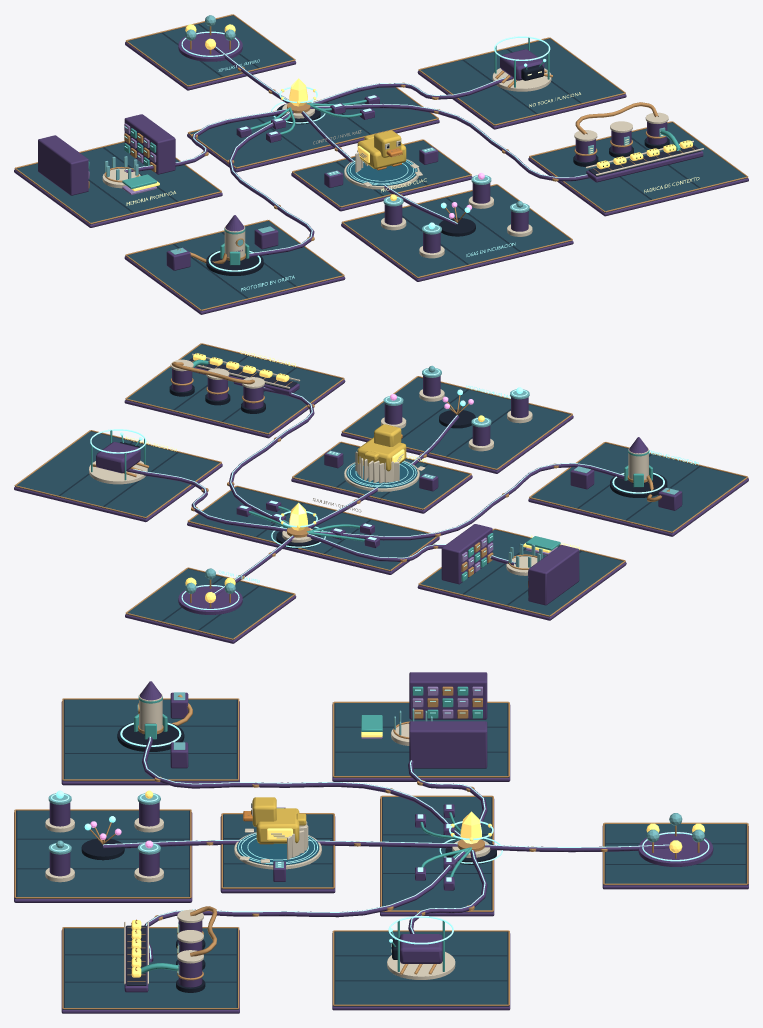
Rendered from underworld.glb.
The picture shows the model from 3 angles, top to bottom: view 1: azimuth 30°, elevation 25°; view 2: azimuth 150°, elevation 25°; view 3: azimuth 270°, elevation 25°; orthographic projection. The views are drawn at different scales.
Parts seen in each view (by area): view 1: Batch_Underworld_tile, Batch_Underworld_violet, Batch_Underworld_copper, Batch_Underworld_cream, Batch_Underworld_signal, Batch_Underworld_floor, Batch_Underworld_charcoal, Batch_Underworld_teal, Batch_Underworld_glass, Batch_BobDuck_duck, Batch_Underworld_water, Batch_Underworld_rubber (+1 smaller); view 2: Batch_Underworld_tile, Batch_Underworld_violet, Batch_Underworld_copper, Batch_Underworld_cream, Batch_Underworld_signal, Batch_Underworld_floor, Batch_Underworld_charcoal, Batch_Underworld_teal, Batch_Underworld_glass, Batch_BobDuck_duck, Batch_Underworld_water, Batch_Underworld_rubber; view 3: Batch_Underworld_tile, Batch_Underworld_violet, Batch_Underworld_copper, Batch_Underworld_floor, Batch_Underworld_cream, Batch_Underworld_signal, Batch_Underworld_teal, Batch_Underworld_charcoal, Batch_Underworld_glass, Batch_BobDuck_duck, Batch_Underworld_water, Batch_Underworld_rubber (+1 smaller).
Boxes of the visible parts, bbox=[...] form: Batch_Underworld_tile: bbox=[17, 15, 746, 309]; Batch_Underworld_violet: bbox=[14, 31, 748, 314]; Batch_Underworld_copper: bbox=[14, 14, 748, 310]; Batch_Underworld_cream: bbox=[102, 68, 703, 258]; Batch_Underworld_signal: bbox=[124, 31, 587, 291]; Batch_Underworld_floor: bbox=[17, 15, 747, 311]; Batch_Underworld_charcoal: bbox=[206, 64, 669, 275]; Batch_Underworld_teal: bbox=[88, 37, 681, 265]; Batch_Underworld_glass: bbox=[104, 15, 665, 254]; Batch_BobDuck_duck: bbox=[357, 130, 406, 168]; Batch_Underworld_water: bbox=[346, 159, 417, 185]; Batch_Underworld_rubber: bbox=[588, 145, 700, 176]; Batch_Underworld_tile: bbox=[16, 344, 745, 638]; Batch_Underworld_violet: bbox=[14, 358, 748, 643]; Batch_Underworld_copper: bbox=[14, 343, 748, 639]; Batch_Underworld_cream: bbox=[89, 353, 648, 575]; Batch_Underworld_signal: bbox=[90, 368, 698, 609]; Batch_Underworld_floor: bbox=[15, 344, 747, 640]; Batch_Underworld_charcoal: bbox=[120, 385, 667, 548]; Batch_Underworld_teal: bbox=[91, 359, 652, 597]; Batch_Underworld_glass: bbox=[185, 365, 678, 593]; Batch_BobDuck_duck: bbox=[357, 424, 406, 471]; Batch_Underworld_water: bbox=[346, 461, 417, 488]; Batch_Underworld_rubber: bbox=[189, 358, 297, 389]; Batch_Underworld_tile: bbox=[17, 699, 745, 1007]; Batch_Underworld_violet: bbox=[14, 672, 748, 1013]; Batch_Underworld_copper: bbox=[14, 686, 748, 1009]; Batch_Underworld_floor: bbox=[15, 699, 747, 1009]; Batch_Underworld_cream: bbox=[45, 693, 490, 984]; Batch_Underworld_signal: bbox=[51, 689, 709, 958]; Batch_Underworld_teal: bbox=[134, 686, 482, 973]; Batch_Underworld_charcoal: bbox=[81, 722, 496, 992]; Batch_Underworld_glass: bbox=[48, 692, 704, 974]; Batch_BobDuck_duck: bbox=[252, 797, 306, 843]; Batch_Underworld_water: bbox=[236, 832, 319, 865]; Batch_Underworld_rubber: bbox=[126, 925, 146, 985].
Size of the model in its own units: 46.2 by 4.37 by 46.2.
